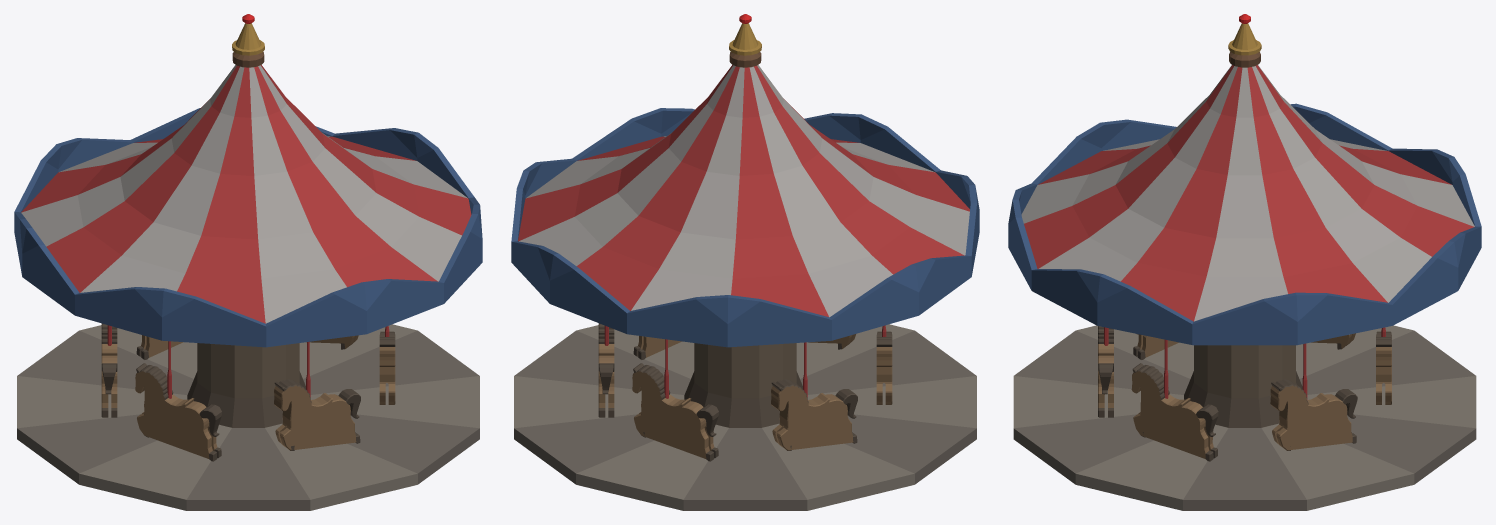
File: SM_Bldg_City_AmusementPark_Carousel.fbx
The picture shows the model from 3 angles, left to right: view 1: azimuth 30°, elevation 25°; view 2: azimuth 150°, elevation 25°; view 3: azimuth 270°, elevation 25°; orthographic projection.
Visible parts, largest first — view 1: SM_Bldg_City_AmusementPark_Carousel_Wheel, SM_Bldg_City_AmusementPark_Carousel; view 2: SM_Bldg_City_AmusementPark_Carousel_Wheel, SM_Bldg_City_AmusementPark_Carousel; view 3: SM_Bldg_City_AmusementPark_Carousel_Wheel, SM_Bldg_City_AmusementPark_Carousel.
Boxes of the visible parts, left/top/right/bottom form: SM_Bldg_City_AmusementPark_Carousel_Wheel: left=14, top=14, right=482, bottom=461; SM_Bldg_City_AmusementPark_Carousel: left=17, top=324, right=479, bottom=510; SM_Bldg_City_AmusementPark_Carousel_Wheel: left=511, top=14, right=979, bottom=461; SM_Bldg_City_AmusementPark_Carousel: left=514, top=324, right=976, bottom=510; SM_Bldg_City_AmusementPark_Carousel_Wheel: left=1008, top=14, right=1481, bottom=461; SM_Bldg_City_AmusementPark_Carousel: left=1013, top=325, right=1476, bottom=510.
Size of the model in its own units: 753 by 716 by 771.
